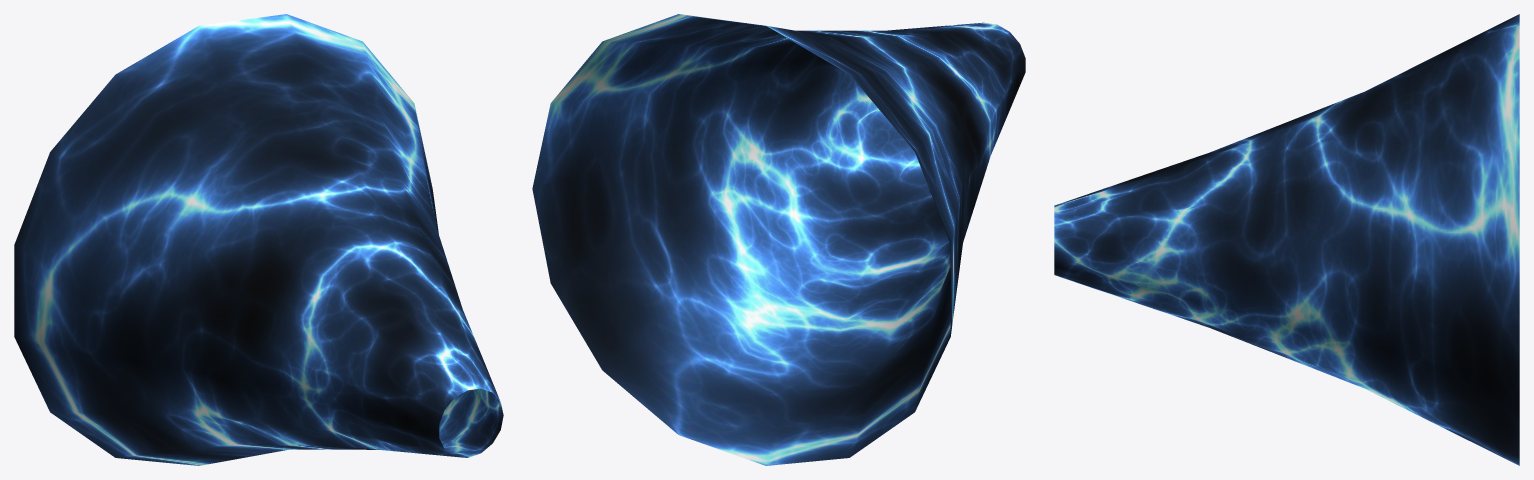
The model's file is skill_fashizhuaqukaishi_step.FBX.
3 renders of one model, left to right at view 1: azimuth 30°, elevation 25°; view 2: azimuth 150°, elevation 25°; view 3: azimuth 270°, elevation 25°, orthographic. The views are drawn at different scales.
Parts seen in each view (by area): view 1: Cylinder02; view 2: Cylinder02; view 3: Cylinder02.
Boxes of the visible parts, x1,y1,x2,y2 form: Cylinder02: [14, 14, 503, 465]; Cylinder02: [532, 14, 1025, 465]; Cylinder02: [1054, 14, 1519, 465].
Size of the model in its own units: 1.88 by 1.94 by 1.89.
